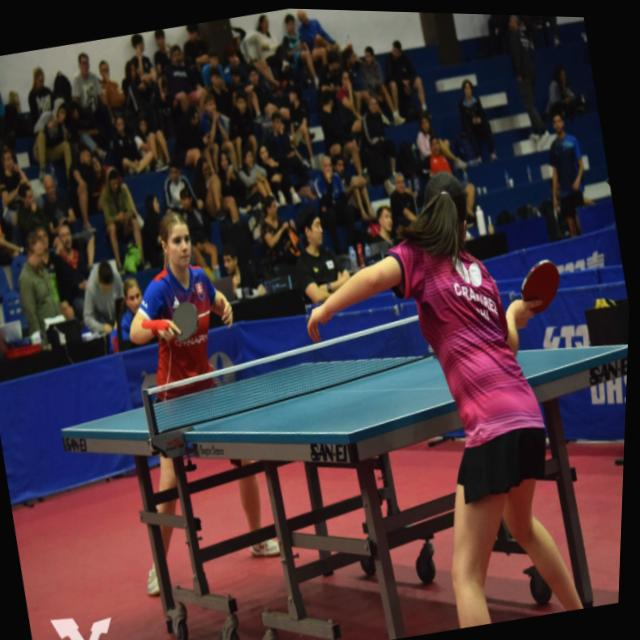TT Net: (140, 298, 482, 444)
TT Racket: (511, 250, 563, 324), (166, 291, 204, 352)
TT Table: (59, 346, 628, 433)
